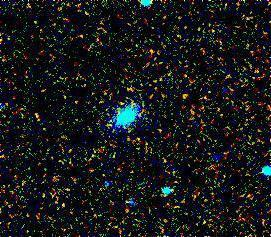star: (169, 82, 199, 112)
